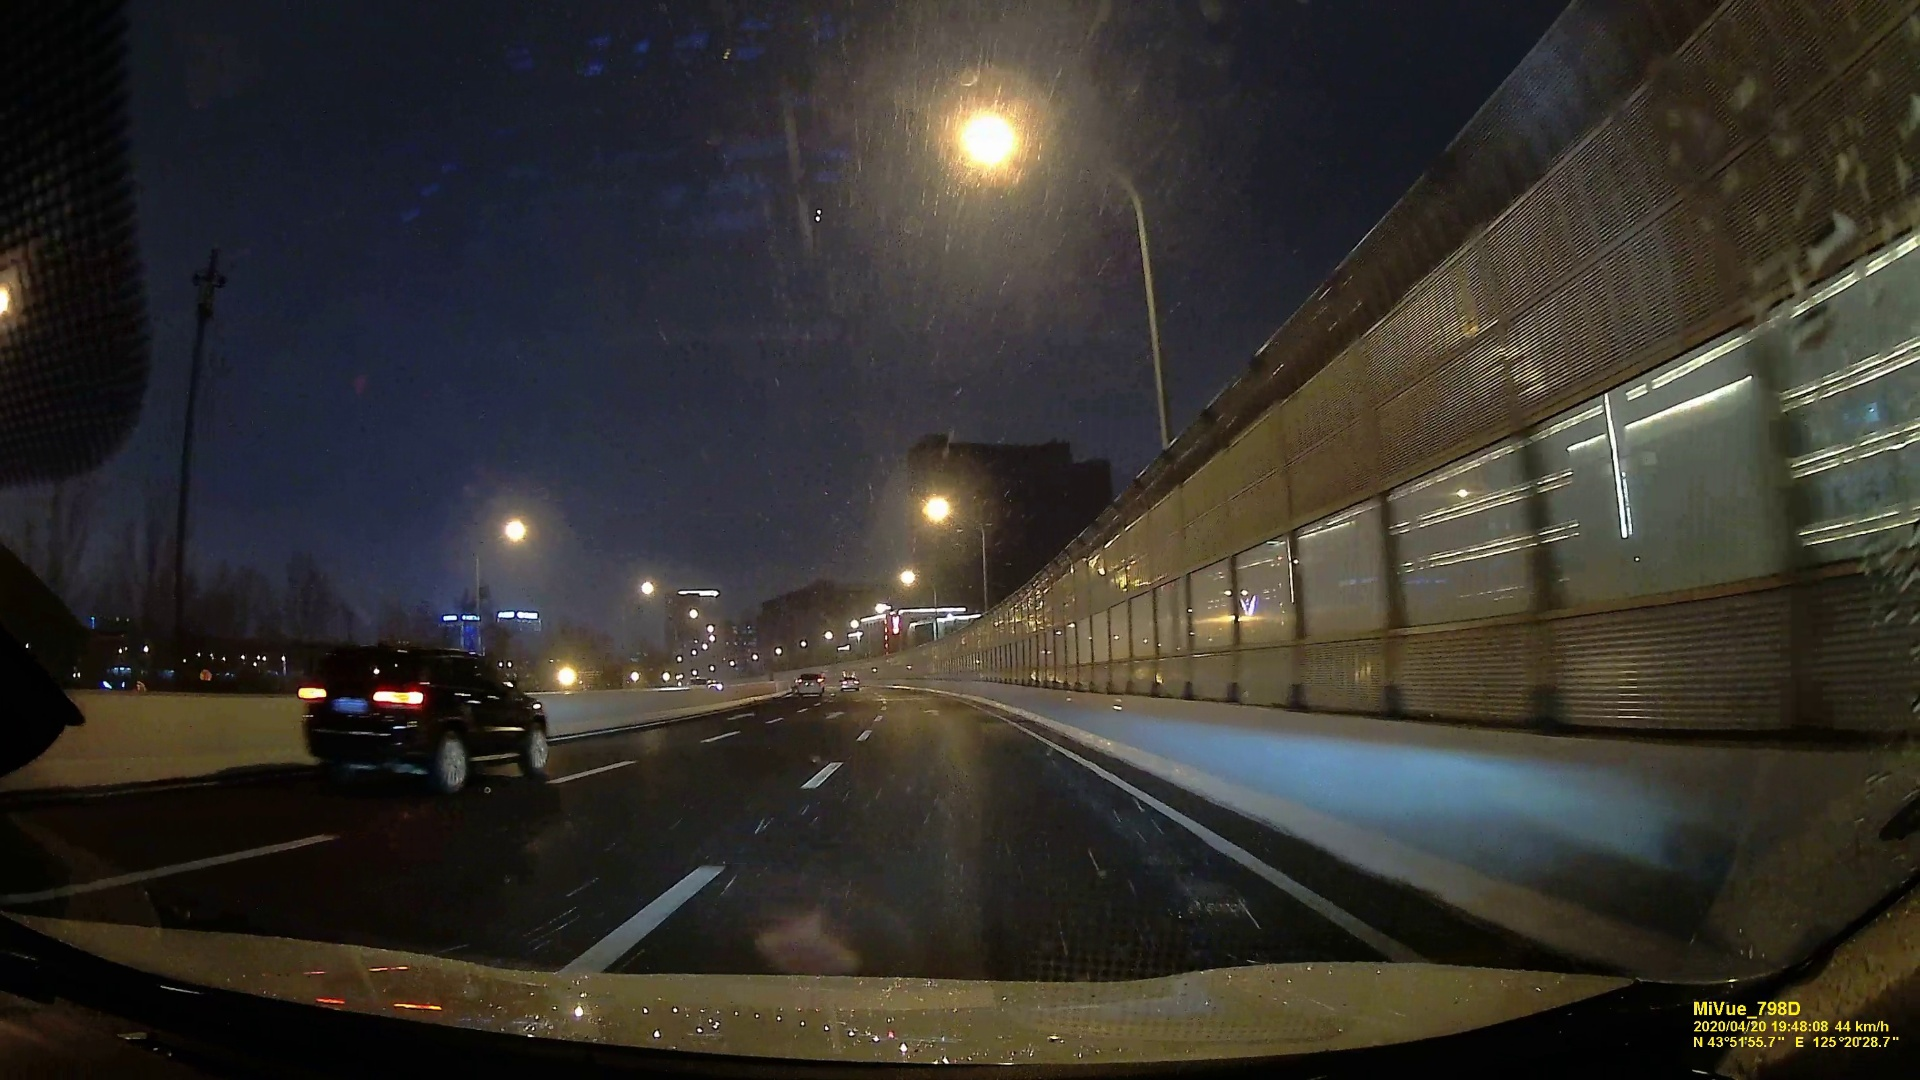vehicle: (297, 640, 547, 794), (793, 674, 825, 696)
